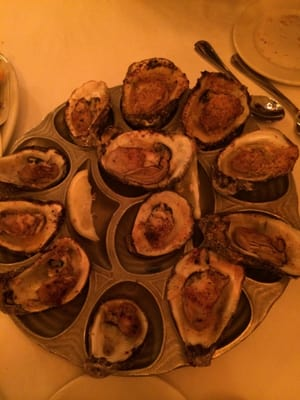sandwich: (194, 39, 284, 120)
